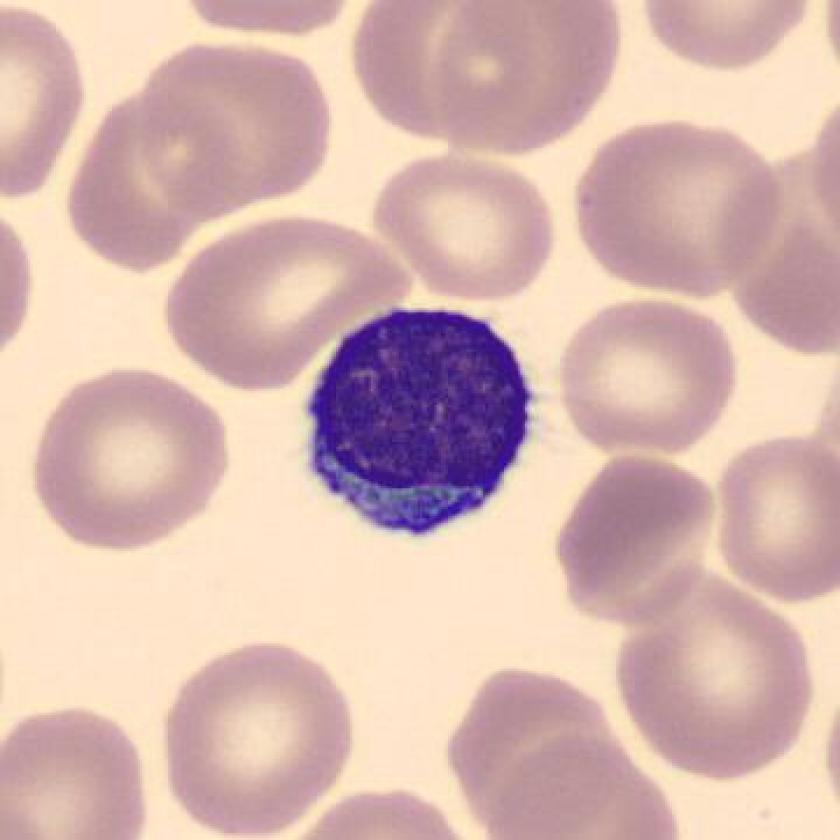lymphocyte: (290, 300, 547, 561)
